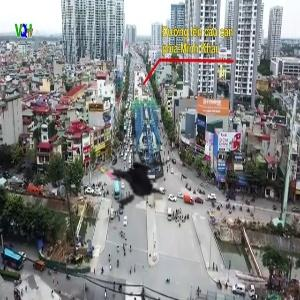drone: (84, 126, 180, 222)
